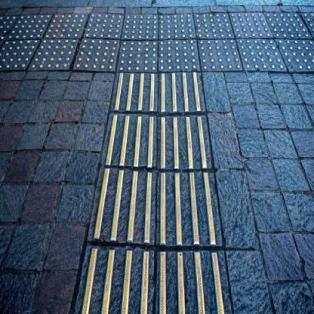Podoctatil: (1, 13, 314, 312)
